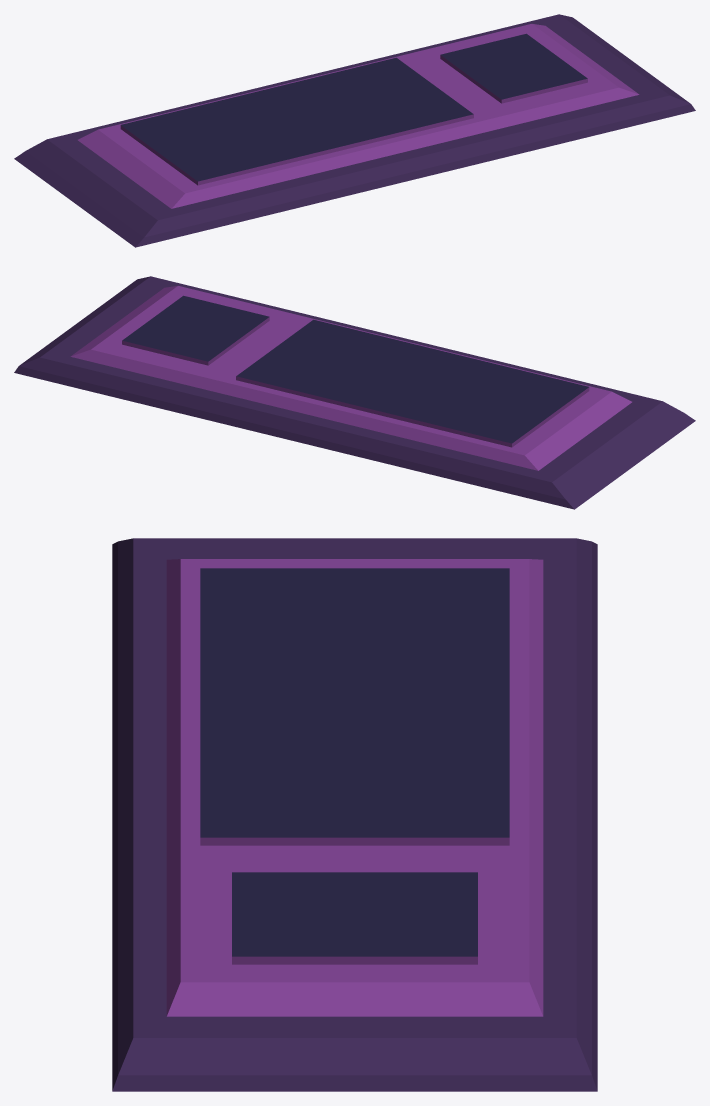
Rendered from Teclado_WorkRoom.glb.
3 views of the same model, one above another, from view 1: azimuth 30°, elevation 25°; view 2: azimuth 150°, elevation 25°; view 3: azimuth 270°, elevation 25° (orthographic). The views are drawn at different scales.
Visible parts, largest first — view 1: teclado_pc.001; view 2: teclado_pc.001; view 3: teclado_pc.001.
Boxes of the visible parts, x1,y1,x2,y2 form: teclado_pc.001: (14, 14, 695, 247); teclado_pc.001: (14, 276, 695, 509); teclado_pc.001: (112, 538, 597, 1091).
Bounding box in the file's own units: 0.4 × 0.02 × 0.15.
Materials: 1 (1 with a texture image).
